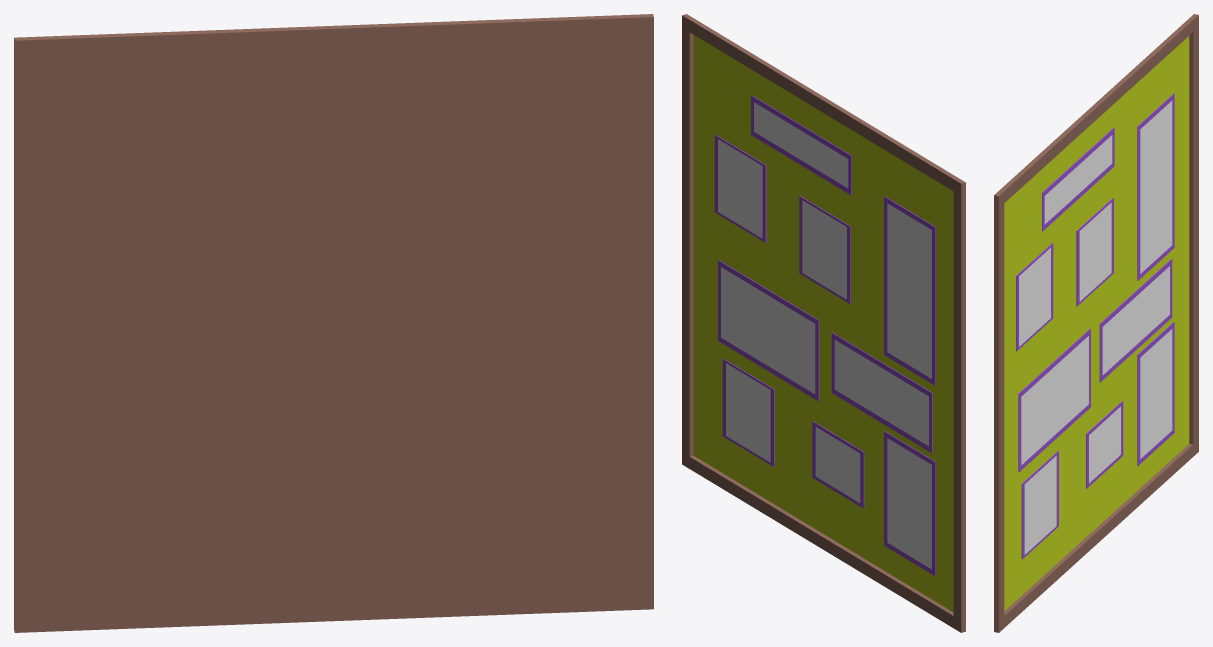
The model's file is Bulletin board.glb.
3 renders of one model, left to right at view 1: azimuth 30°, elevation 25°; view 2: azimuth 150°, elevation 25°; view 3: azimuth 270°, elevation 25°, orthographic. The views are drawn at different scales.
Parts seen in each view (by area): view 1: Box001; view 2: Box001, Box004, Box002, Box010, Box003, Box009, Box006, Box005, Box007, Box008; view 3: Box001, Box002, Box004, Box010, Box003, Box005, Box006, Box007, Box009, Box008.
Boxes of the visible parts, box(x1,y1,x2,y2) form: Box001: box(14, 14, 653, 632); Box001: box(682, 14, 965, 632); Box004: box(718, 260, 819, 401); Box002: box(884, 196, 935, 385); Box010: box(831, 332, 932, 453); Box003: box(884, 431, 935, 576); Box009: box(722, 358, 774, 466); Box006: box(714, 134, 766, 242); Box005: box(751, 95, 851, 195); Box007: box(799, 195, 850, 304); Box008: box(812, 421, 864, 508); Box001: box(994, 14, 1198, 632); Box002: box(1137, 93, 1174, 280); Box004: box(1018, 328, 1090, 472); Box010: box(1099, 258, 1172, 382); Box003: box(1137, 322, 1174, 466); Box005: box(1042, 127, 1114, 231); Box006: box(1016, 243, 1053, 351); Box007: box(1076, 198, 1113, 306); Box009: box(1021, 450, 1058, 559); Box008: box(1086, 401, 1123, 488).
Size of the model in its own units: 513141 by 573624 by 243891.
